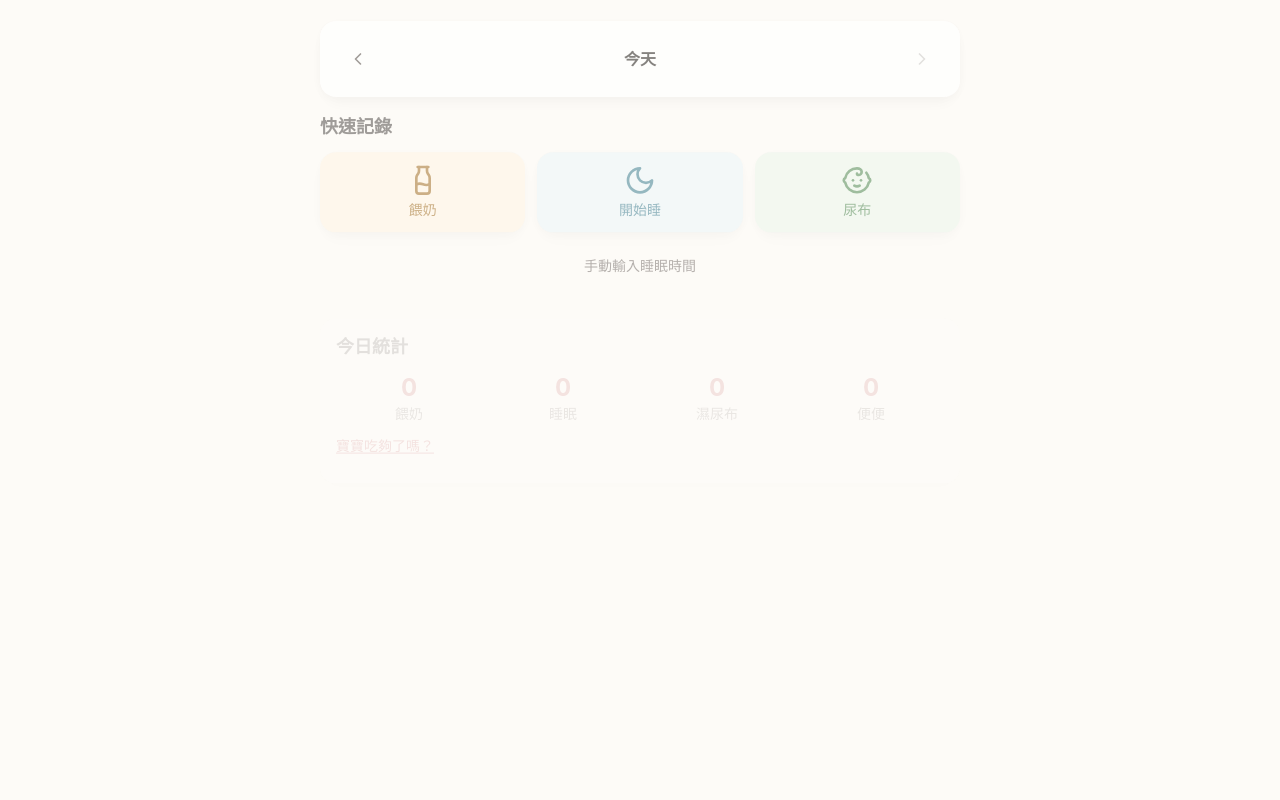
Test: 記錄一筆餵奶 › 寫入成功才關表
Click the button "餵奶": (423, 192) top-left (320, 152), bottom-right (525, 232)
(page scrolled)
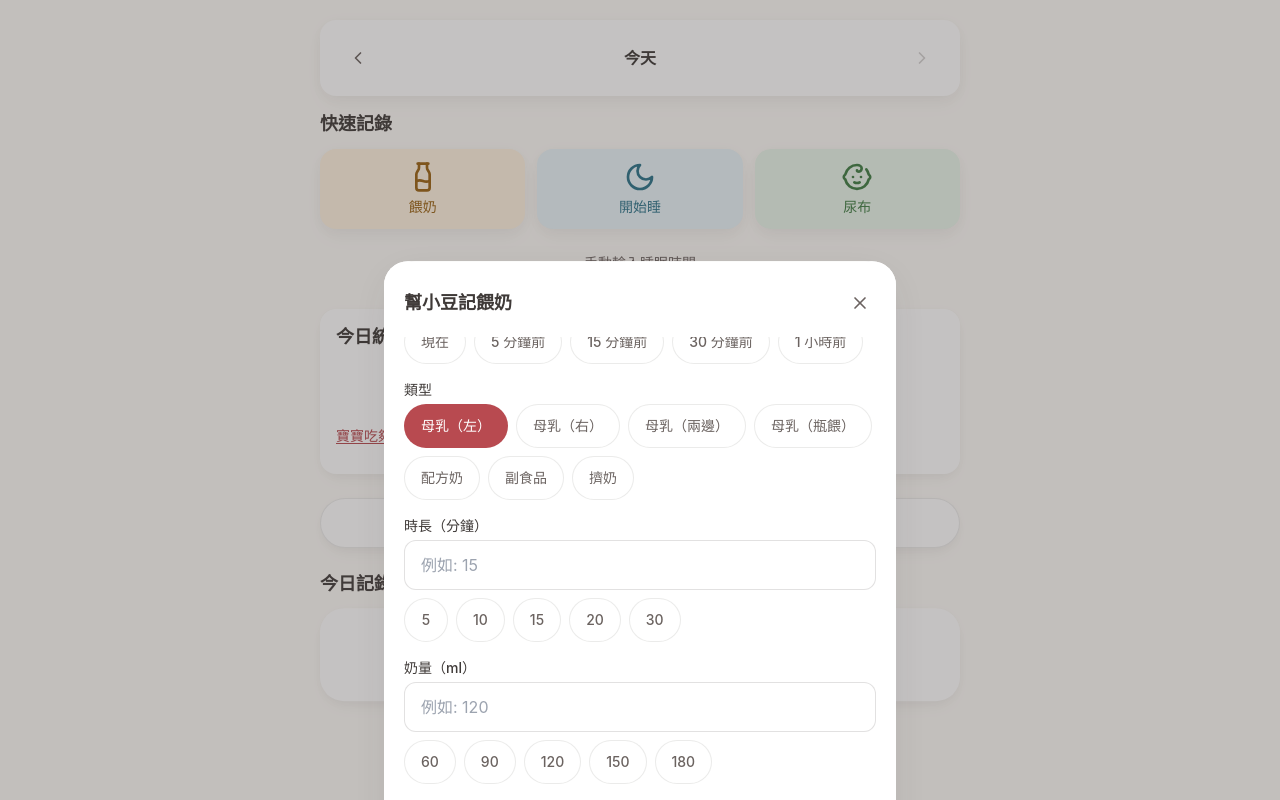
Now the heading "幫小豆記餵奶" is shown, box top-left (404, 291), bottom-right (512, 316)
In the number field labelled "奶量（ml）": (640, 707) top-left (404, 682), bottom-right (876, 732), type "120"
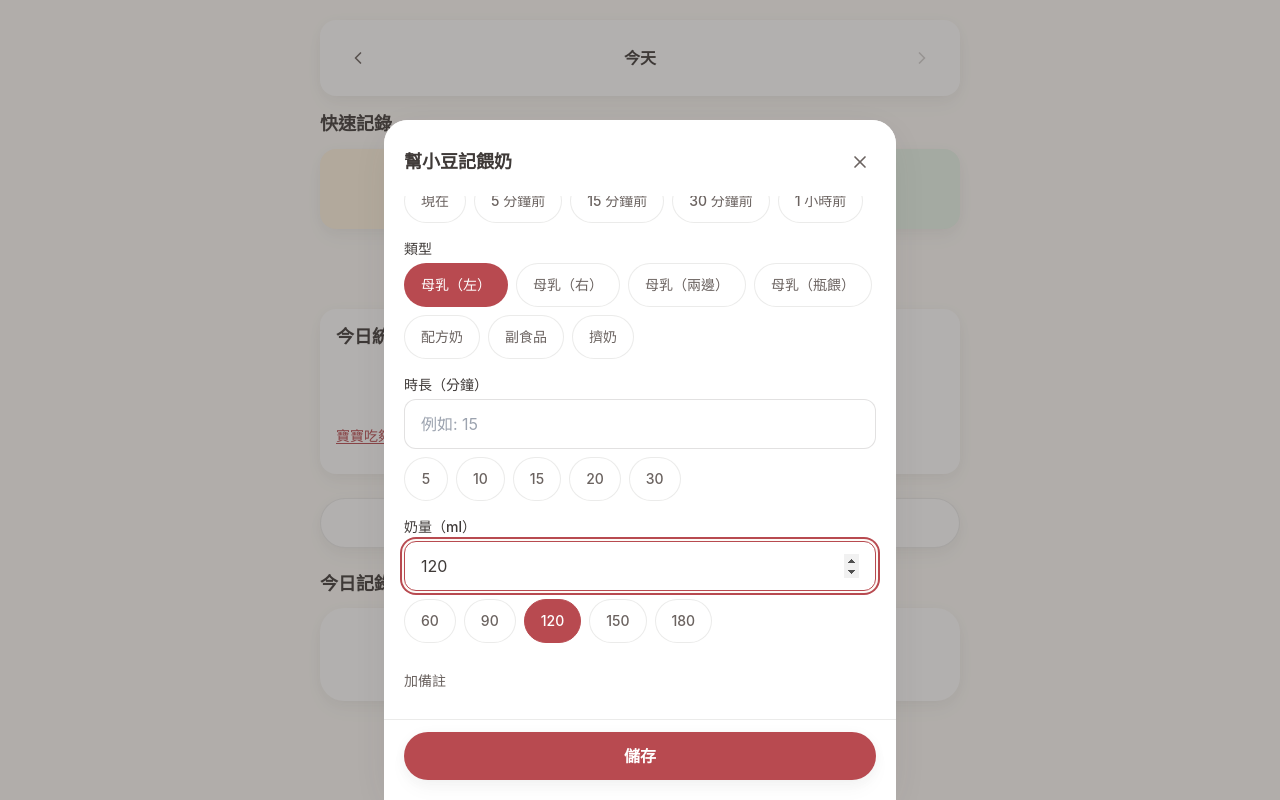
Click the button "儲存": (640, 756) top-left (404, 732), bottom-right (876, 780)
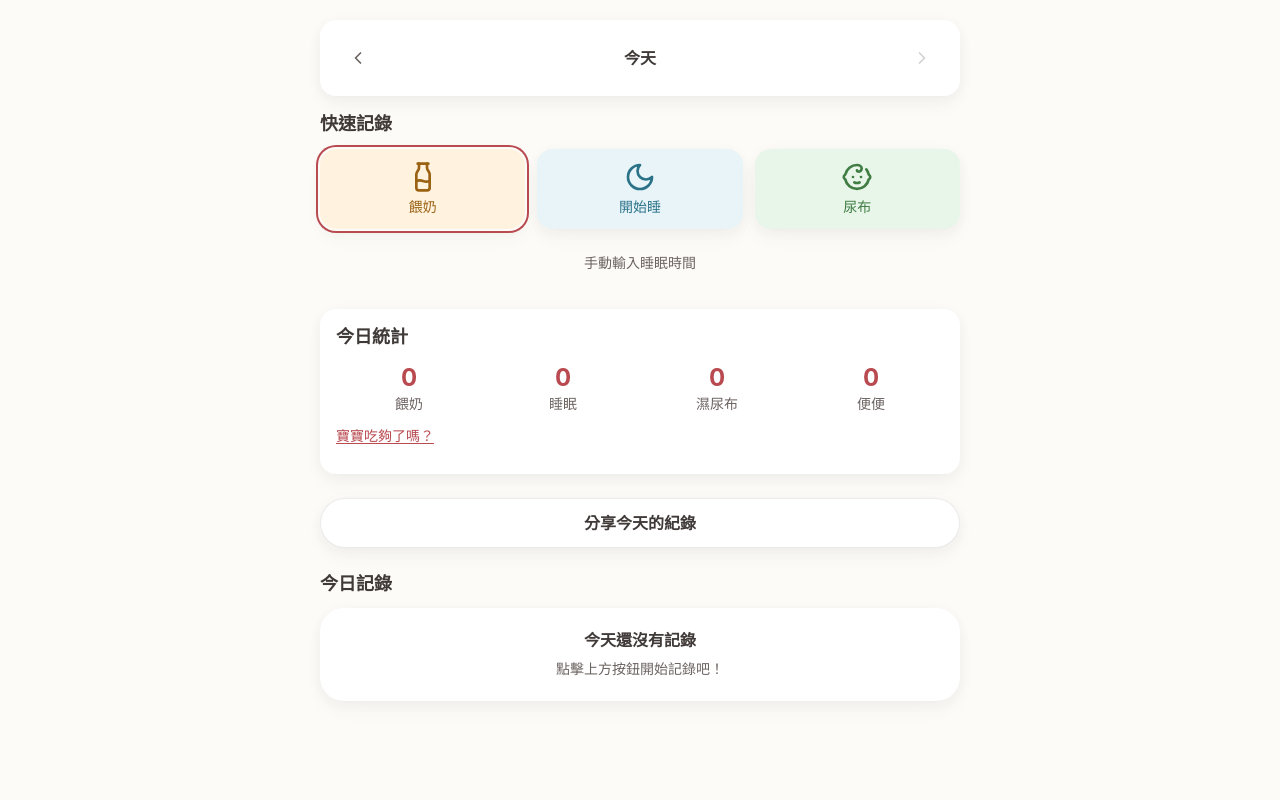
Now the heading "幫小豆記餵奶" is gone
